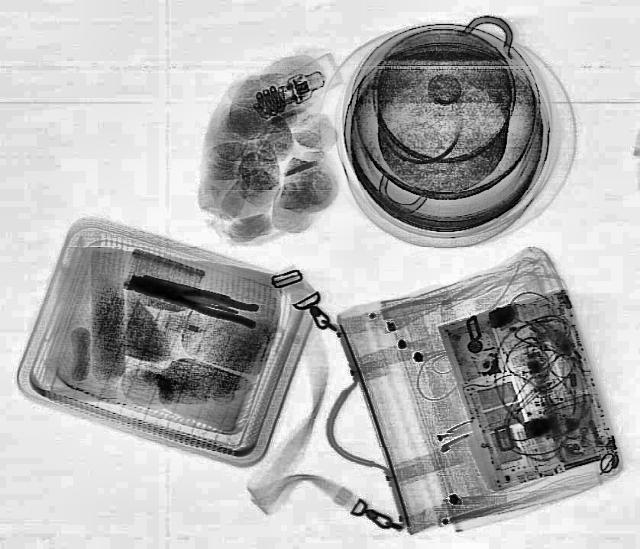Pliers: (126, 266, 266, 330)
